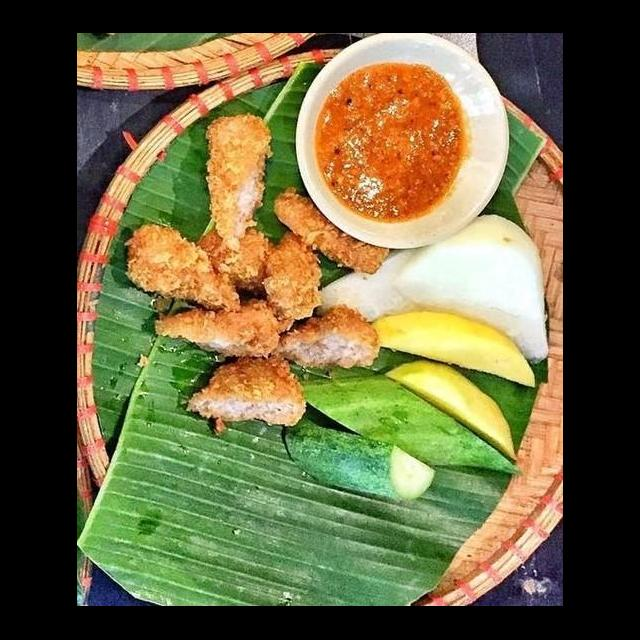cha com: (192, 212, 329, 326), (122, 217, 259, 316), (177, 346, 318, 434), (268, 184, 396, 280), (201, 104, 278, 258), (262, 302, 385, 380), (153, 300, 286, 364)
